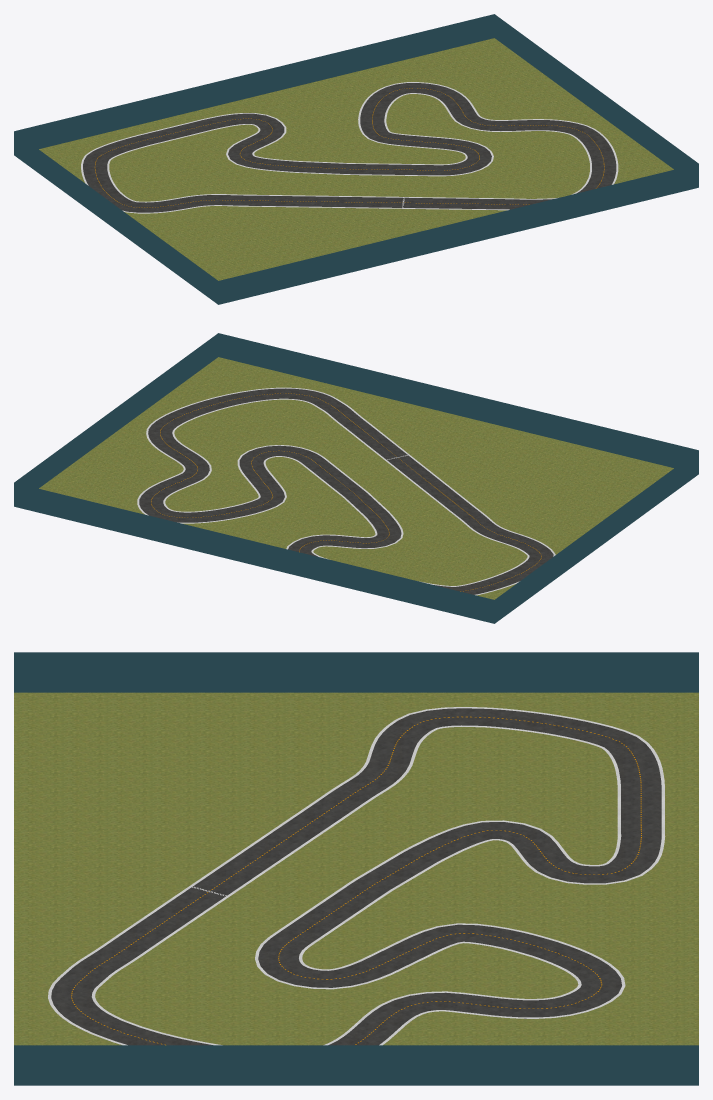
Rendered from 2022_april_pro_cw.dae.
3 renders of one model, top to bottom at view 1: azimuth 30°, elevation 25°; view 2: azimuth 150°, elevation 25°; view 3: azimuth 270°, elevation 25°, orthographic. The views are drawn at different scales.
Visible parts, largest first — view 1: field, wall, road, il, ol, cl; view 2: field, wall, road, il, ol, cl; view 3: field, wall, road, ol, il, cl.
Part boxes in pixels (box(x1,y1,x2,y2)): field: box(39, 38, 673, 280); wall: box(14, 14, 698, 304); road: box(83, 83, 616, 212); il: box(107, 93, 591, 202); ol: box(81, 82, 618, 213); cl: box(94, 88, 604, 207); field: box(39, 357, 673, 599); wall: box(14, 333, 698, 623); road: box(139, 388, 553, 594); il: box(163, 398, 529, 586); ol: box(137, 387, 555, 595); cl: box(151, 393, 541, 591); field: box(14, 692, 698, 1045); wall: box(14, 652, 698, 1085); road: box(51, 708, 661, 1045); ol: box(48, 707, 665, 1045); il: box(91, 725, 621, 1045); cl: box(71, 716, 641, 1045).
Size of the model in its own units: 20.94 by 15.43 by 1.
7 materials, 7 textured.
